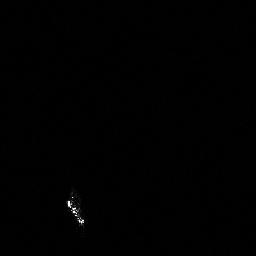ship: (63, 197, 88, 227)
